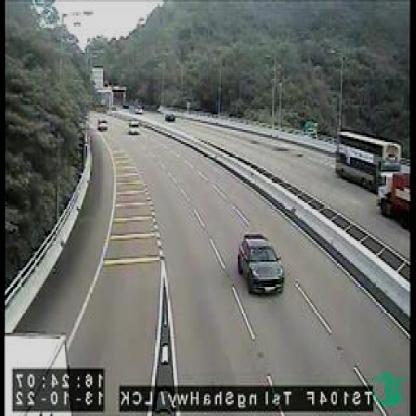Bus: (336, 131, 401, 196)
Car: (238, 230, 286, 295), (128, 119, 142, 134), (98, 116, 109, 130), (163, 111, 177, 122)
